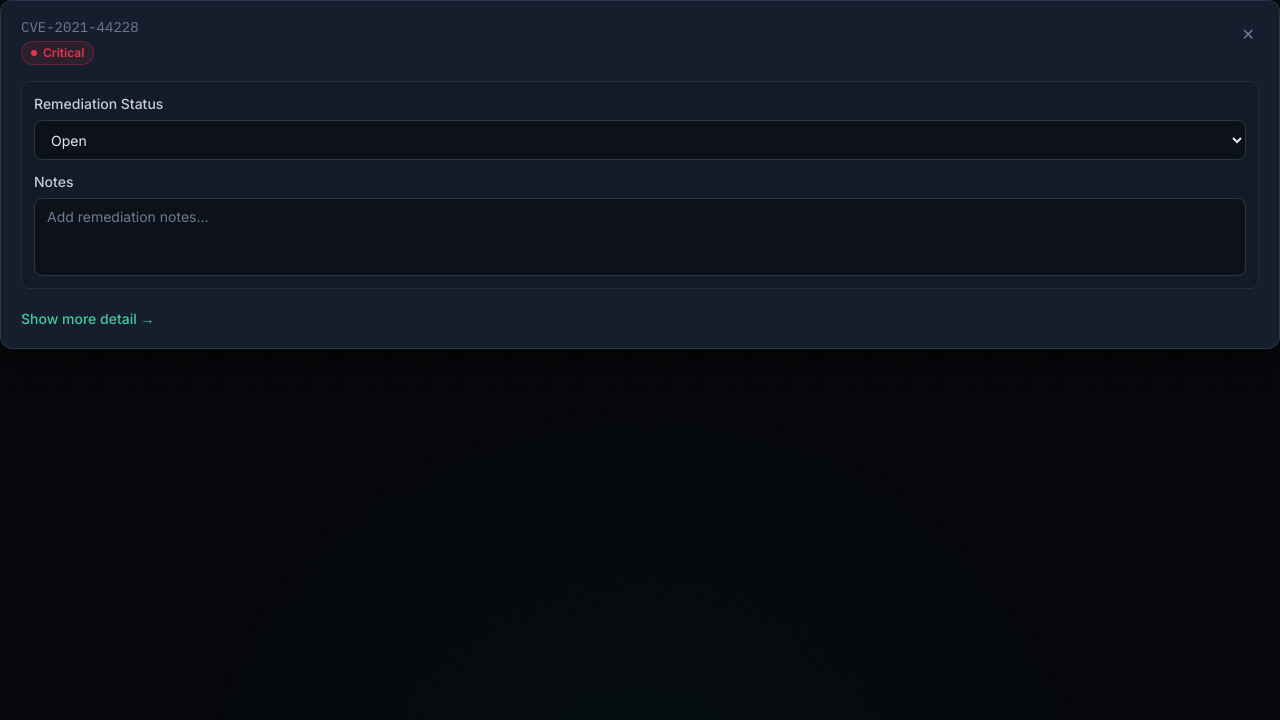
it: VulnerabilityDetailPanel CVSS disclosure › shows the real CVSS score at Level 2 when one exists
This screenshot has width=1280, height=720.
Click the button "Show more detail →".
click(88, 319)  # box top-left (21, 309), bottom-right (154, 329)
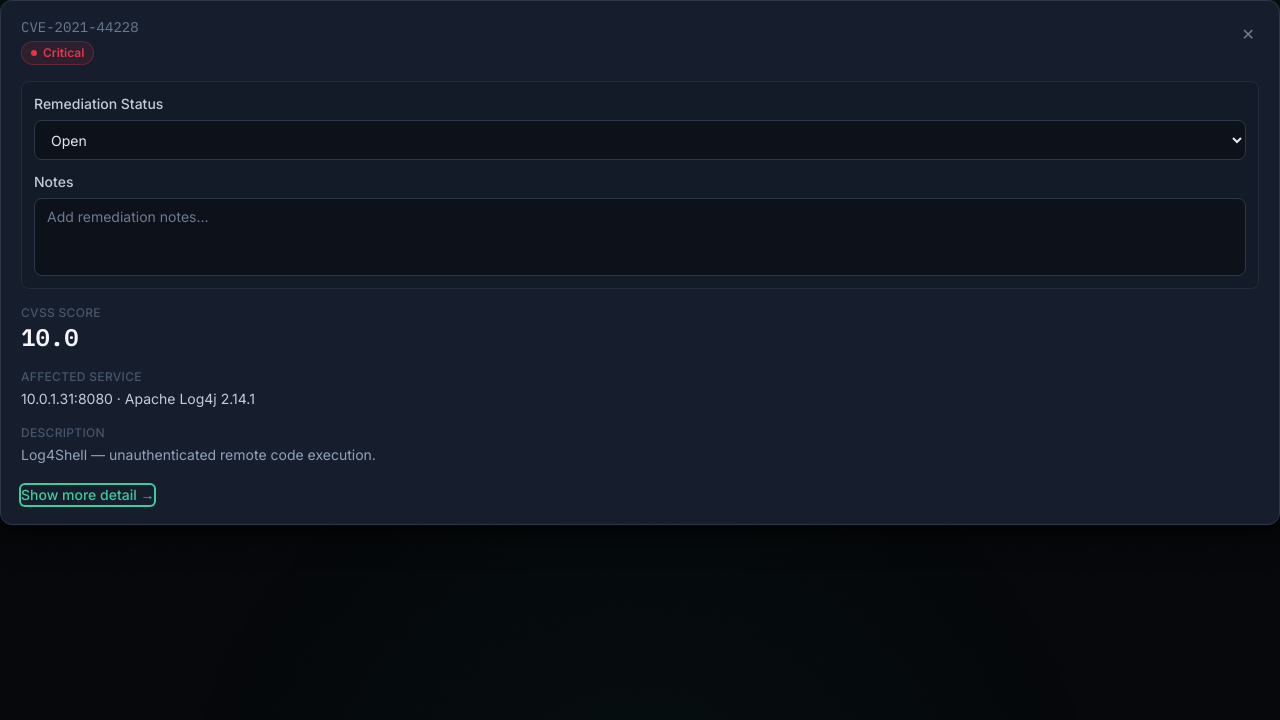
expect the text "10.0" is shown: met, box top-left (21, 321), bottom-right (79, 353)
